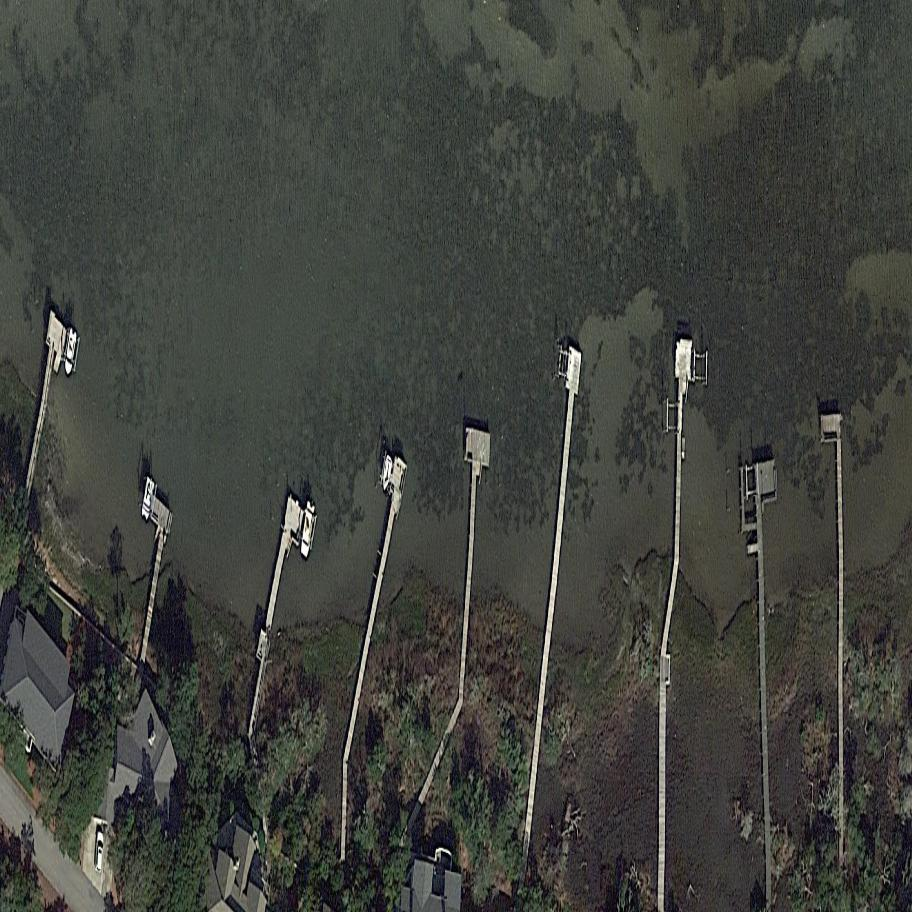ship: (297, 497, 316, 567), (61, 323, 79, 379), (377, 447, 395, 502), (137, 474, 156, 526)
small-vehicle: (94, 832, 105, 876)
